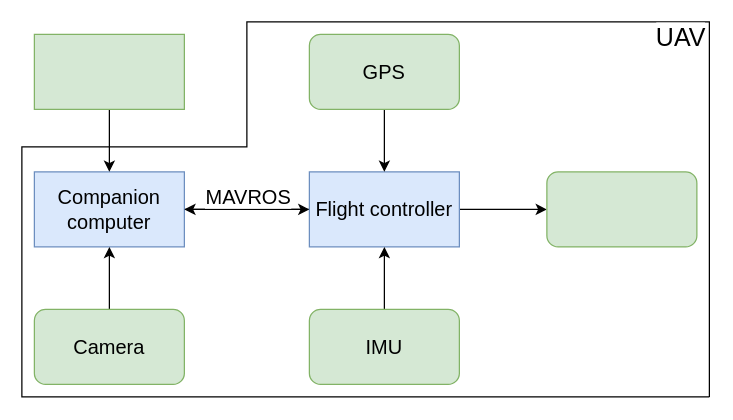
Image size: 733x420. Some labels were removed from this diagram. The box of each missing label's shape, as (x1, y1, x2, y2) in pixels:
ESCs / Motors: (546, 171, 697, 247)
Unmanned surface vessel (USV): (33, 33, 184, 109)
